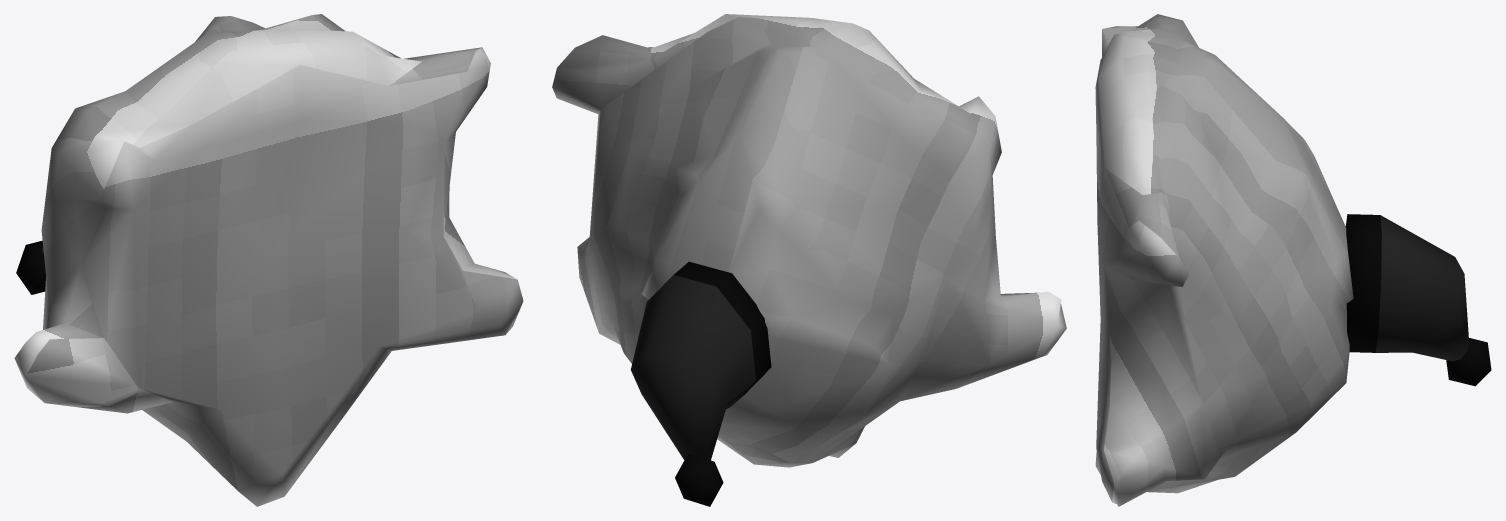
File: florp.dae
3 renders of one model, left to right at view 1: azimuth 30°, elevation 25°; view 2: azimuth 150°, elevation 25°; view 3: azimuth 270°, elevation 25°, orthographic. The views are drawn at different scales.
Visible parts, largest first — view 1: Florp; view 2: Florp; view 3: Florp.
Part boxes in pixels (left/top/right/bottom): Florp: left=14, top=14, right=523, bottom=506; Florp: left=552, top=14, right=1066, bottom=506; Florp: left=1095, top=14, right=1491, bottom=506.
Size of the model in its own units: 2 by 1.39 by 1.75.
3 materials, 3 textured.
